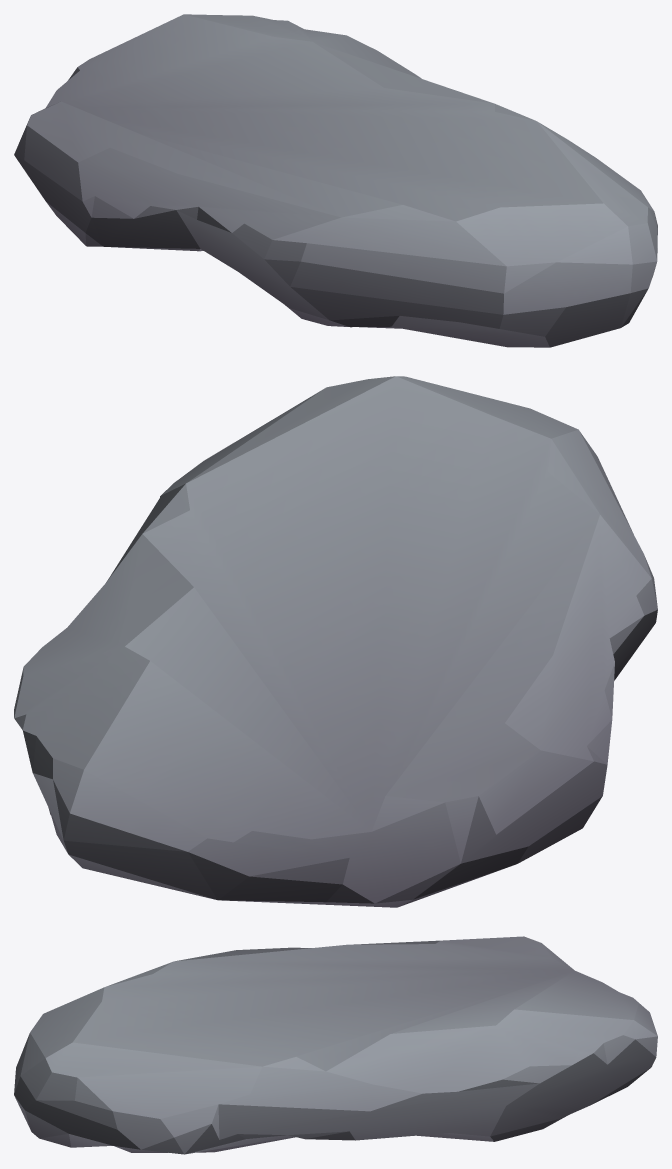
File: rock_3_01.fbx
3 views of the same model, one above another, from view 1: azimuth 30°, elevation 25°; view 2: azimuth 150°, elevation 25°; view 3: azimuth 270°, elevation 25° (orthographic). The views are drawn at different scales.
Parts seen in each view (by area): view 1: rock_3_01; view 2: rock_3_01; view 3: rock_3_01.
Boxes of the visible parts, x1,y1,x2,y2 form: rock_3_01: [14, 14, 657, 347]; rock_3_01: [14, 376, 657, 907]; rock_3_01: [14, 936, 657, 1154].
Bounding box in the file's own units: 108 × 32.72 × 160.
